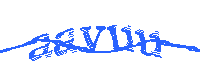a: (53, 27, 77, 56), (29, 32, 51, 61)
u: (134, 29, 162, 59), (108, 24, 134, 53)
v: (81, 25, 107, 53)
